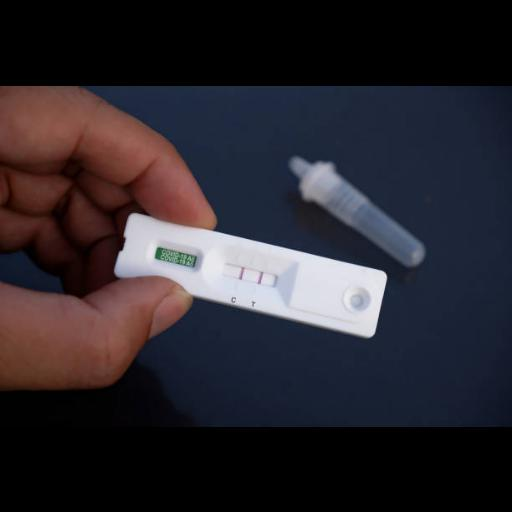Pos: (112, 212, 388, 336)
